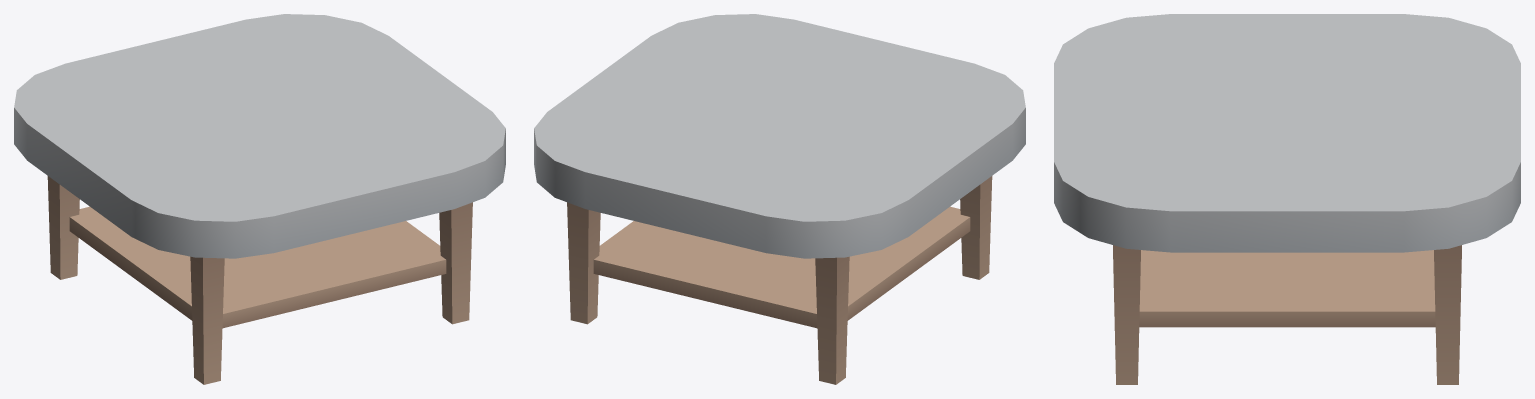
The model's file is table-coffee-rounded-shelf (%thumbnail).glb.
3 renders of one model, left to right at view 1: azimuth 30°, elevation 25°; view 2: azimuth 150°, elevation 25°; view 3: azimuth 270°, elevation 25°, orthographic. The views are drawn at different scales.
Visible parts, largest first — view 1: table-coffee-rounded-shelf (%thumbnail); view 2: table-coffee-rounded-shelf (%thumbnail); view 3: table-coffee-rounded-shelf (%thumbnail).
Boxes of the visible parts, left/top/right/bottom form: table-coffee-rounded-shelf (%thumbnail): left=14, top=14, right=505, bottom=384; table-coffee-rounded-shelf (%thumbnail): left=534, top=14, right=1025, bottom=384; table-coffee-rounded-shelf (%thumbnail): left=1054, top=14, right=1520, bottom=384.
Size of the model in its own units: 0.8 by 0.378 by 0.8.
